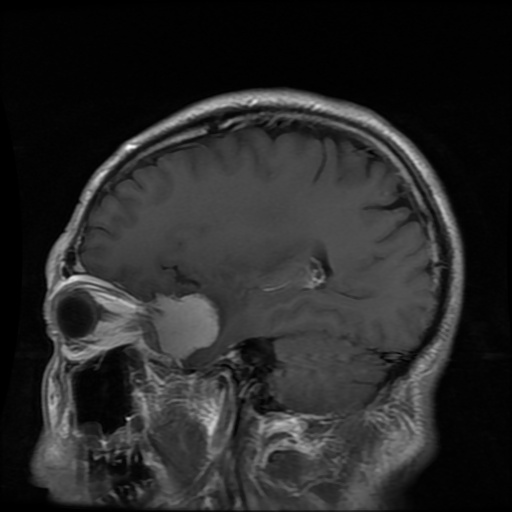meningioma: (147, 293, 218, 360)
